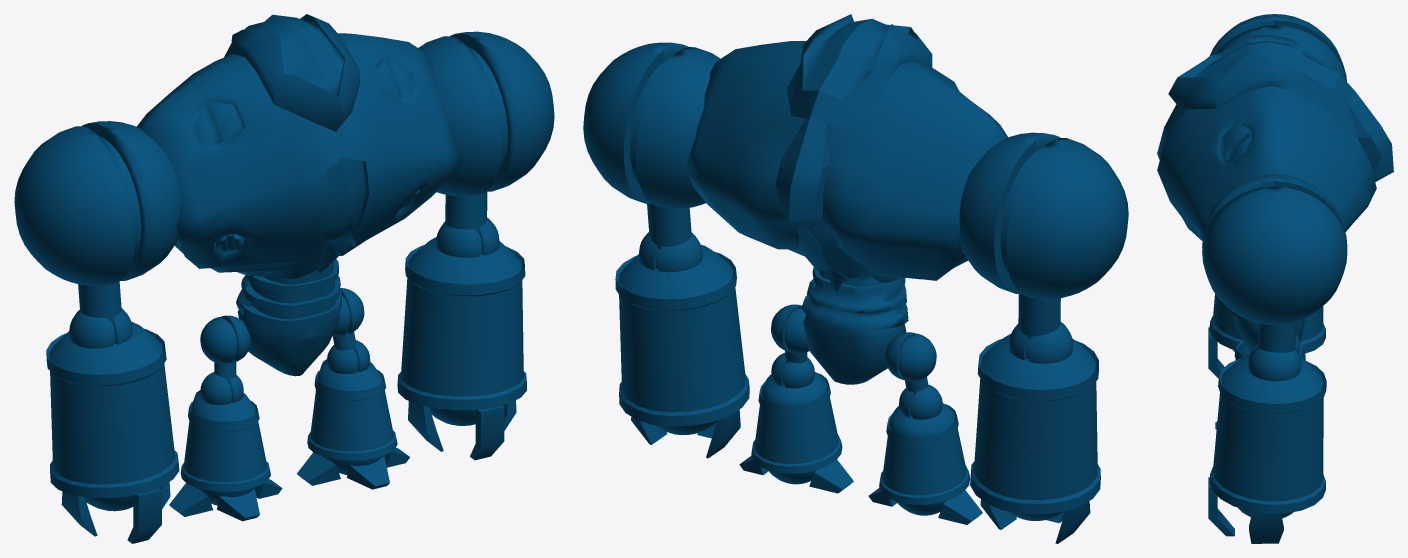
The model's file is Robot.fbx.
3 renders of one model, left to right at view 1: azimuth 30°, elevation 25°; view 2: azimuth 150°, elevation 25°; view 3: azimuth 270°, elevation 25°, orthographic. The views are drawn at different scales.
Visible parts, largest first — view 1: Torso, Forearm1, L_Shoulder1, Calf1, Head, Waist, R_Elbow, R_HIpJoint, Claw06, Bicep1, R_knee, Toe04 (+7 smaller); view 2: Torso, L_Shoulder1, Forearm1, Calf1, Head, Waist, R_Elbow, R_HIpJoint, Bicep1, R_knee, Claw05, R_toe3 (+4 smaller); view 3: Torso, L_Shoulder1, Forearm1, Head, R_Elbow, Bicep1, Claw06, Claw07, Waist.
Boxes of the visible parts, x1,y1,x2,y2 form: Torso: (136, 33, 461, 278); Forearm1: (46, 237, 526, 498); L_Shoulder1: (14, 31, 554, 285); Calf1: (180, 359, 397, 491); Head: (224, 14, 359, 131); Waist: (236, 259, 341, 376); R_Elbow: (69, 217, 499, 348); R_HIpJoint: (200, 288, 364, 363); Claw06: (127, 405, 504, 543); Bicep1: (78, 191, 487, 322); R_knee: (200, 340, 370, 404); Toe04: (217, 456, 389, 521); Torso: (685, 41, 1007, 292); L_Shoulder1: (583, 42, 1128, 299); Forearm1: (615, 244, 1100, 514); Calf1: (751, 372, 970, 504); Head: (786, 14, 932, 129); Waist: (801, 267, 908, 384); R_Elbow: (638, 232, 1073, 363); R_HIpJoint: (771, 304, 936, 381); Bicep1: (647, 204, 1060, 339); R_knee: (771, 353, 942, 419); Claw05: (706, 409, 1016, 529); R_toe3: (739, 456, 982, 524); Torso: (1157, 86, 1393, 240); L_Shoulder1: (1202, 14, 1347, 324); Forearm1: (1209, 294, 1326, 513); Head: (1168, 34, 1355, 115); R_Elbow: (1248, 344, 1301, 381); Bicep1: (1257, 321, 1296, 353); Claw06: (1208, 327, 1234, 536); Claw07: (1249, 511, 1283, 543); Waist: (1229, 308, 1305, 352).
Size of the model in its own units: 4.56 by 3.93 by 2.01.
